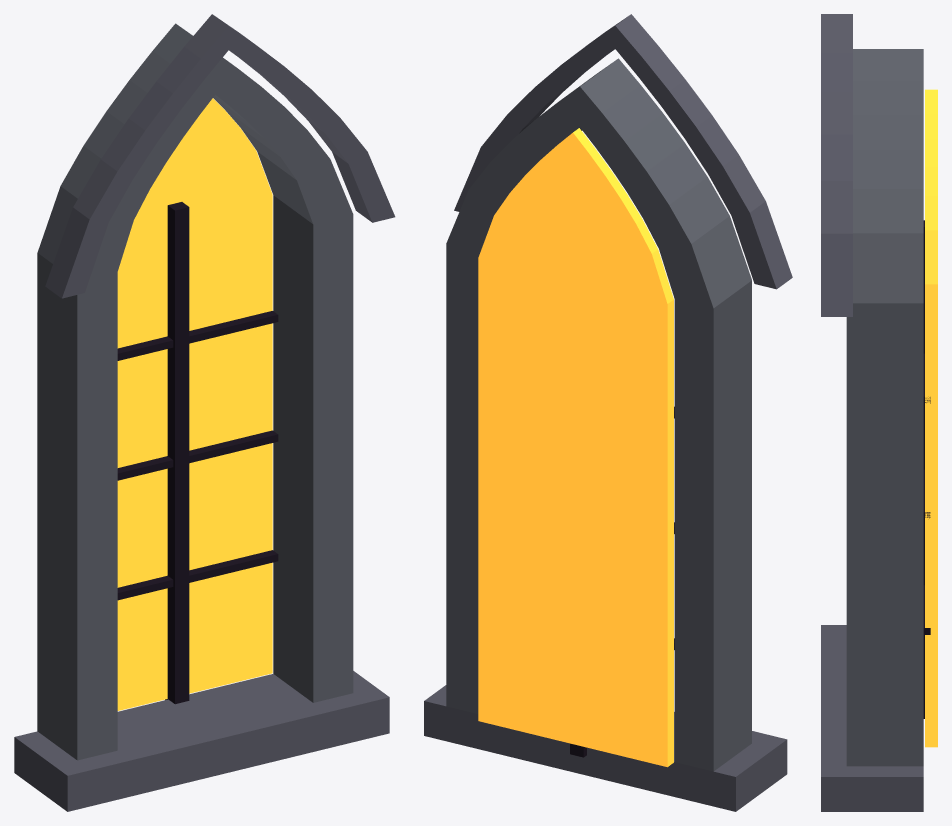
File: kit_church_window_lit.glb
3 views of the same model, side by side, from view 1: azimuth 30°, elevation 25°; view 2: azimuth 150°, elevation 25°; view 3: azimuth 270°, elevation 25° (orthographic). The views are drawn at different scales.
Parts seen in each view (by area): view 1: kit_church_window_lit; view 2: kit_church_window_lit; view 3: kit_church_window_lit.
Boxes of the visible parts, x1,y1,x2,y2 form: kit_church_window_lit: (14, 14, 395, 811); kit_church_window_lit: (424, 14, 792, 811); kit_church_window_lit: (821, 14, 937, 811).
Size of the model in its own units: 0.58 by 1.24 by 0.182.
